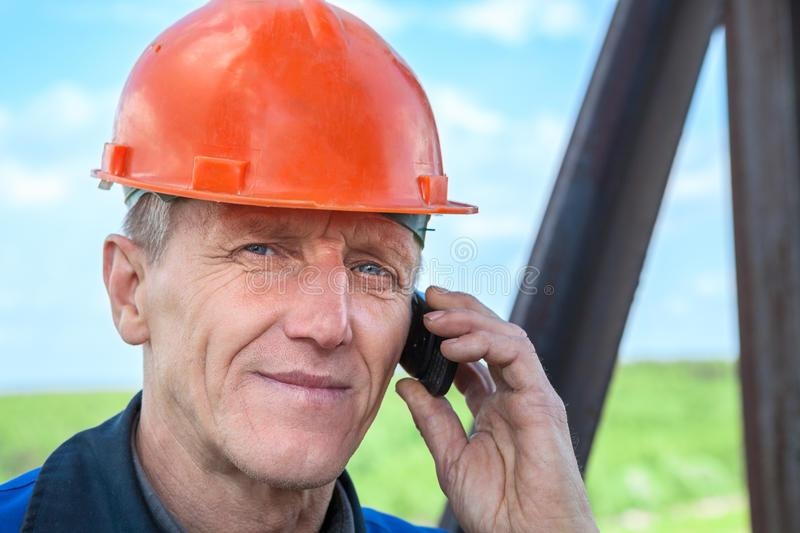helmet: (84, 1, 478, 214)
